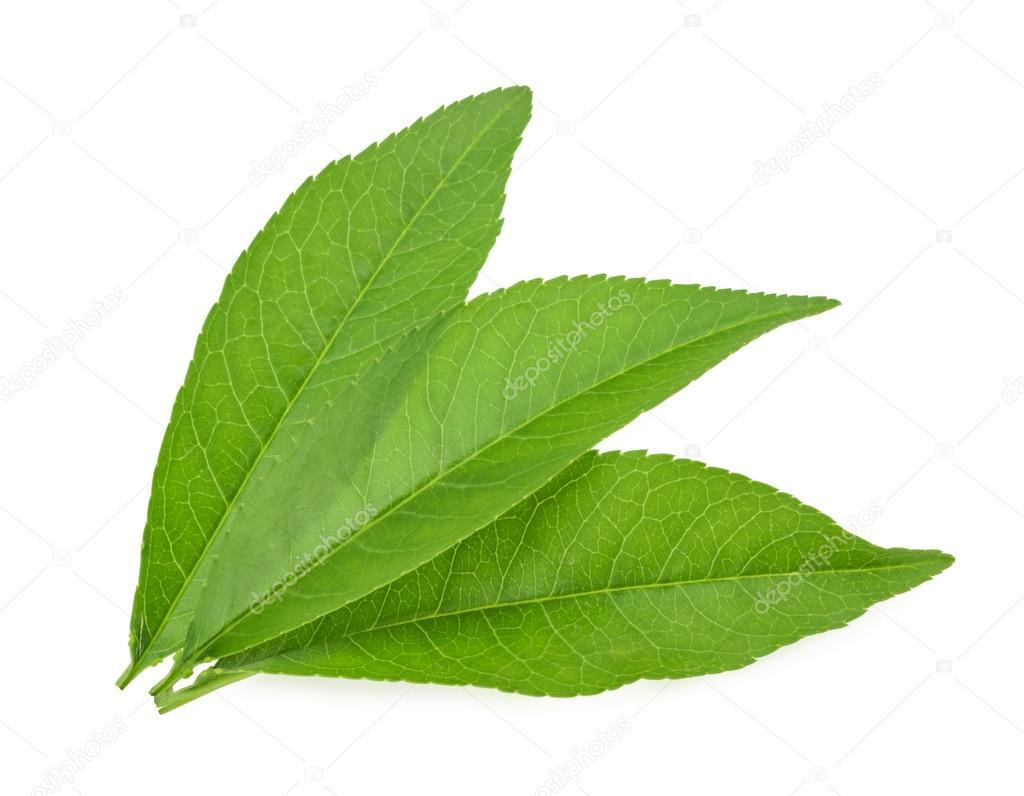Peach leaf: (104, 261, 844, 651), (111, 65, 546, 670), (127, 437, 972, 738)
